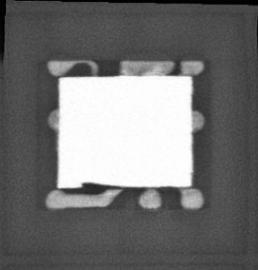DIE_BROKEN: (78, 180, 123, 189)
